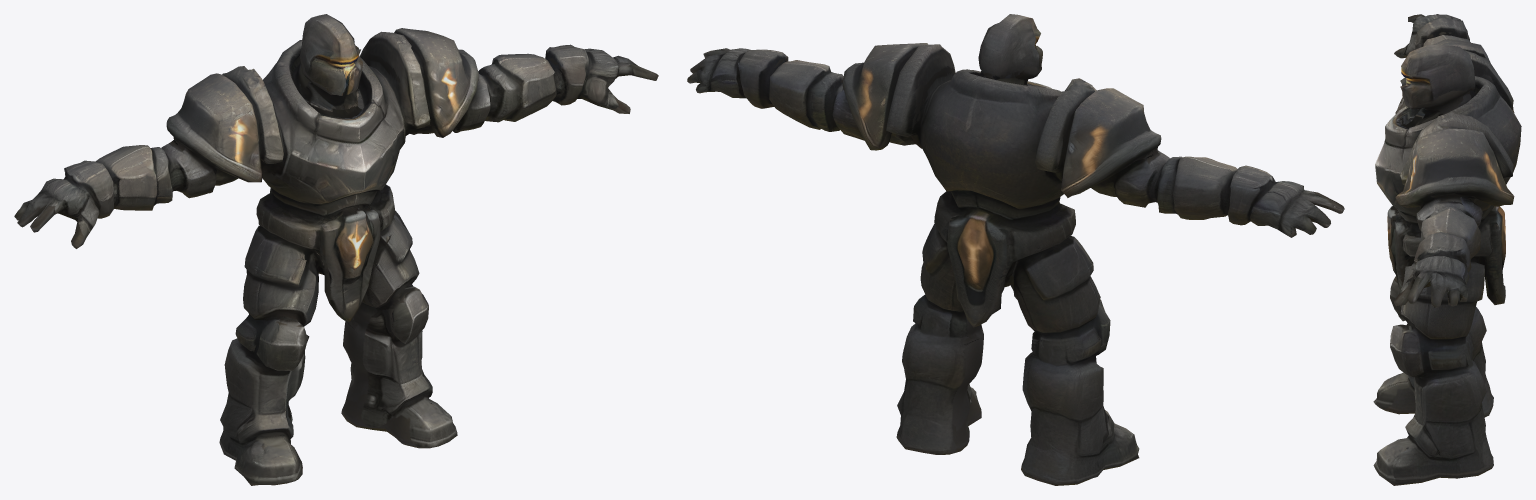
The model's file is base_basic_shaded.glb.
The picture shows the model from 3 angles, left to right: view 1: azimuth 30°, elevation 25°; view 2: azimuth 150°, elevation 25°; view 3: azimuth 270°, elevation 25°; orthographic projection. The views are drawn at different scales.
Visible parts, largest first — view 1: model; view 2: model; view 3: model.
Boxes of the visible parts, x1,y1,x2,y2 form: model: [14, 14, 658, 485]; model: [687, 14, 1344, 485]; model: [1373, 14, 1521, 485].
Bounding box in the file's own units: 1.88 × 1.21 × 0.4145.
1 material, 1 textured.
